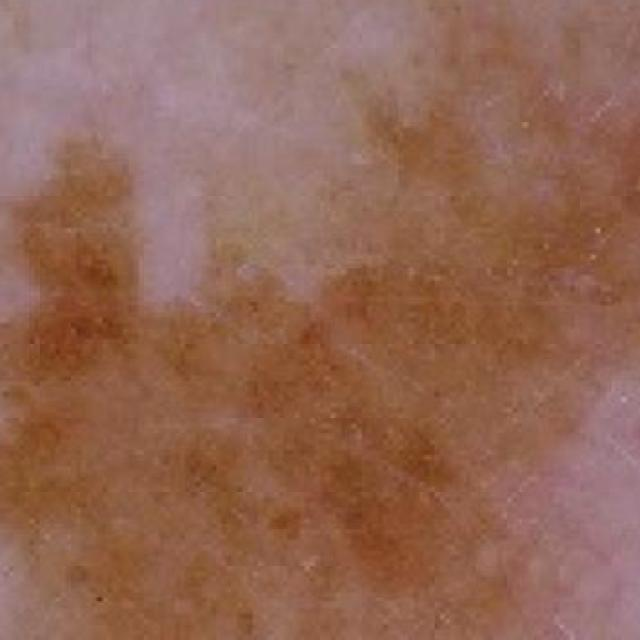BKL: (0, 57, 640, 640)
